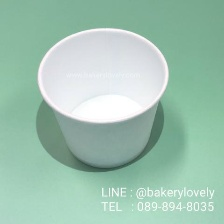paper_cup: (32, 23, 174, 173)
